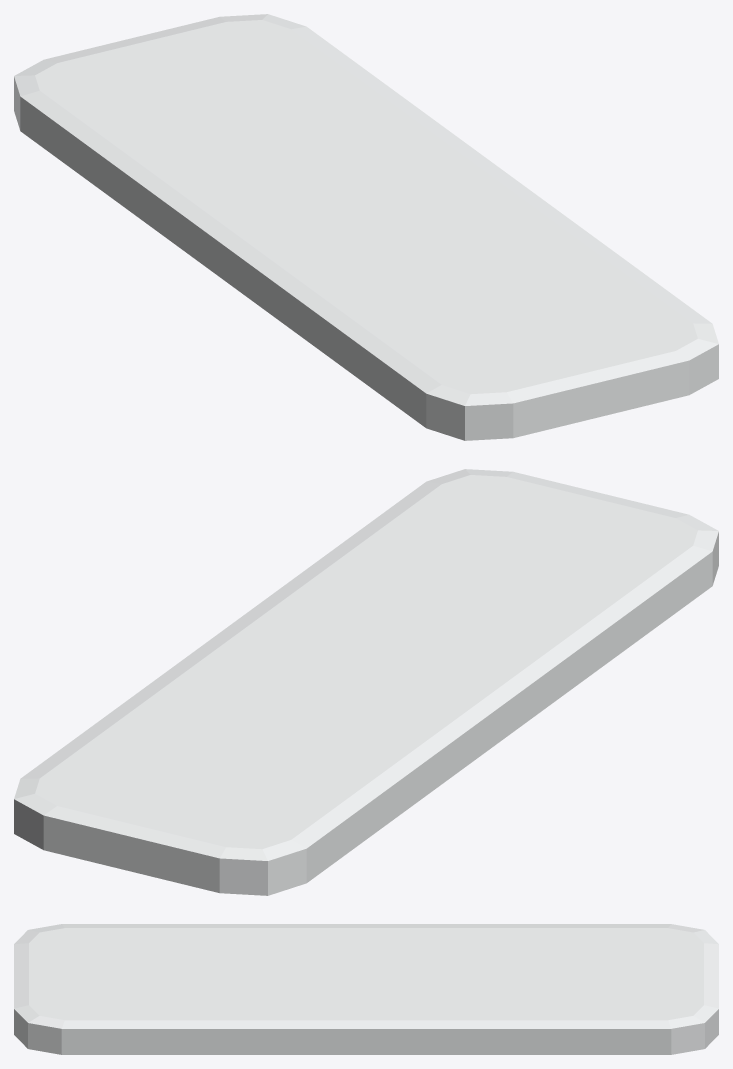
The model's file is cream 1.fbx.
3 renders of one model, top to bottom at view 1: azimuth 30°, elevation 25°; view 2: azimuth 150°, elevation 25°; view 3: azimuth 270°, elevation 25°, orthographic. The views are drawn at different scales.
Visible parts, largest first — view 1: 立方体.001; view 2: 立方体.001; view 3: 立方体.001.
Boxes of the visible parts, <box> form: 立方体.001: <box>14,14,718,440</box>; 立方体.001: <box>14,469,718,895</box>; 立方体.001: <box>14,924,718,1054</box>.
Bounding box in the file's own units: 440 × 60 × 1250.
